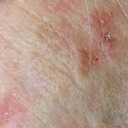Actinic: (77, 15, 115, 75)
